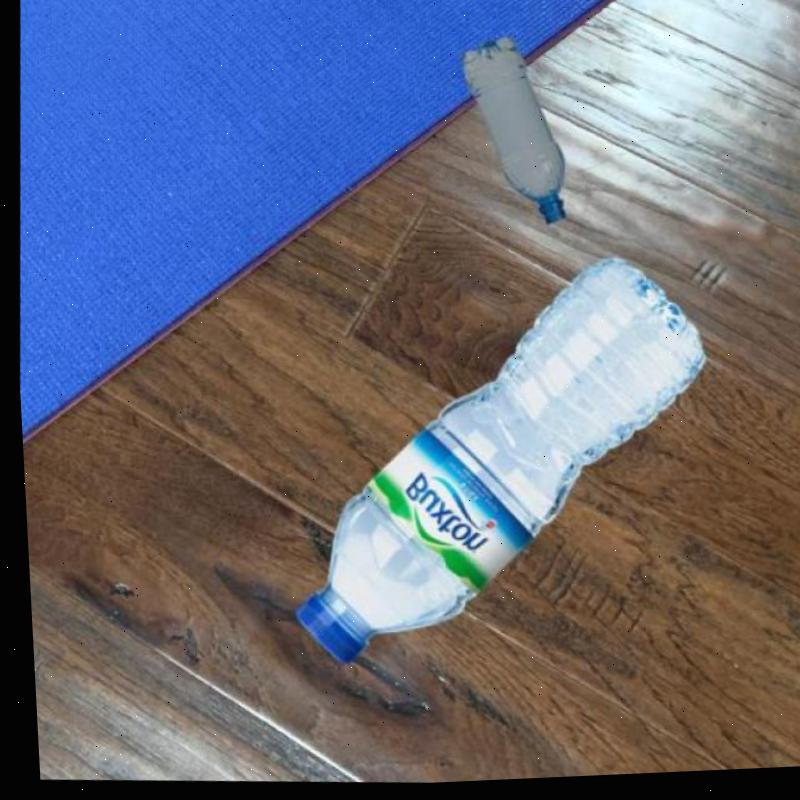botella: (271, 241, 721, 689), (450, 36, 574, 233)
